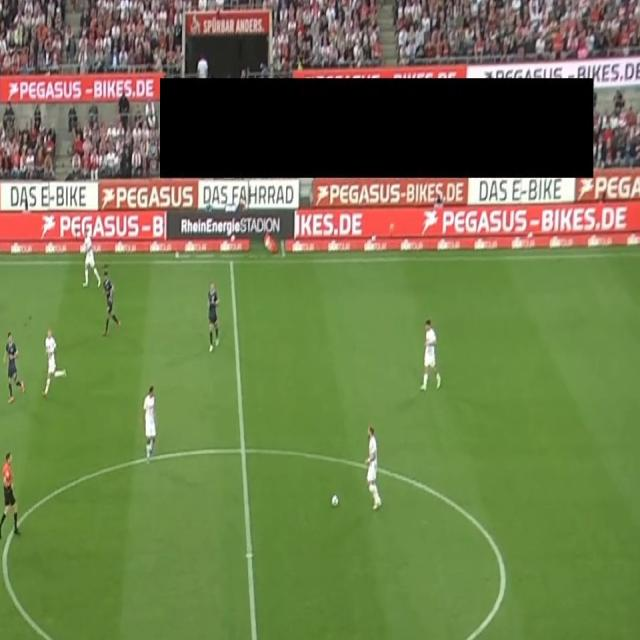ball: (330, 494, 340, 509)
